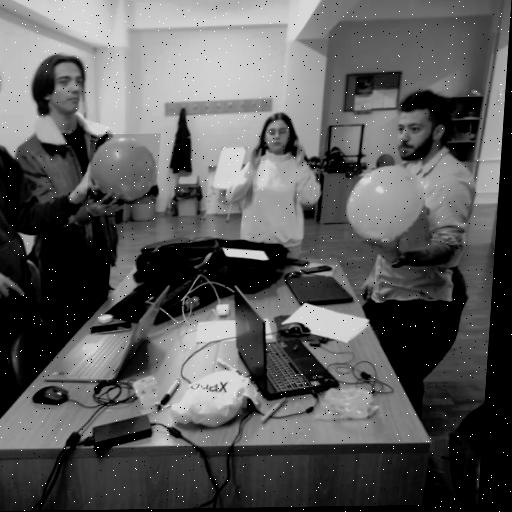balloon: (344, 163, 430, 241), (86, 133, 161, 205)
